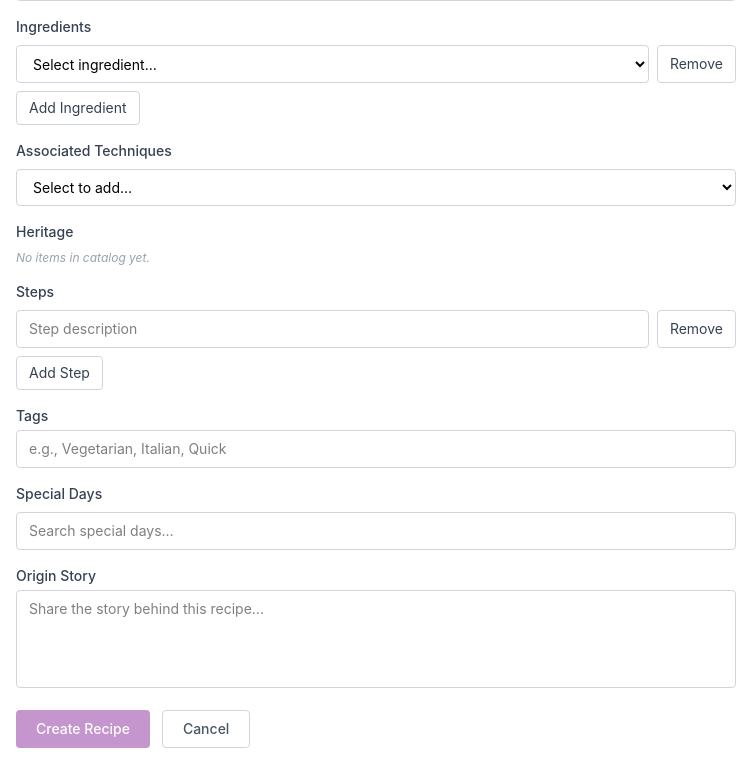
Test case: RecipeFormPage — create mode › removes a step input when "Remove" is clicked
This screenshot has width=753, height=757.
(page scrolled)
Click the button "Add Step" at (59, 373), box x1=16 y1=356 x2=103 y2=390
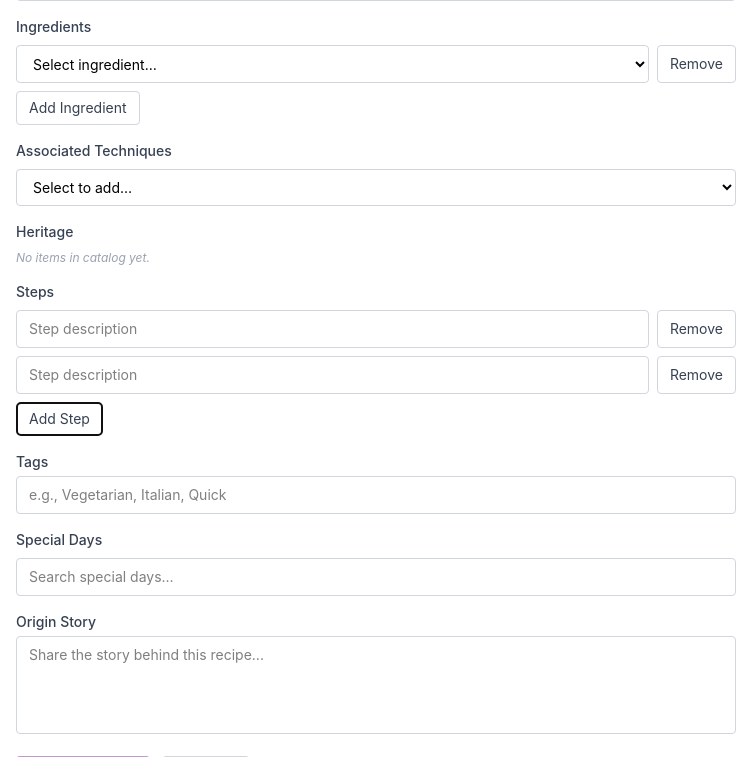
expect the number of fields with placeholder "Step description" is 2: met, box x1=16 y1=310 x2=649 y2=348; x1=16 y1=356 x2=649 y2=394
Click the 3rd button "Remove" at (696, 375), box x1=657 y1=356 x2=736 y2=394
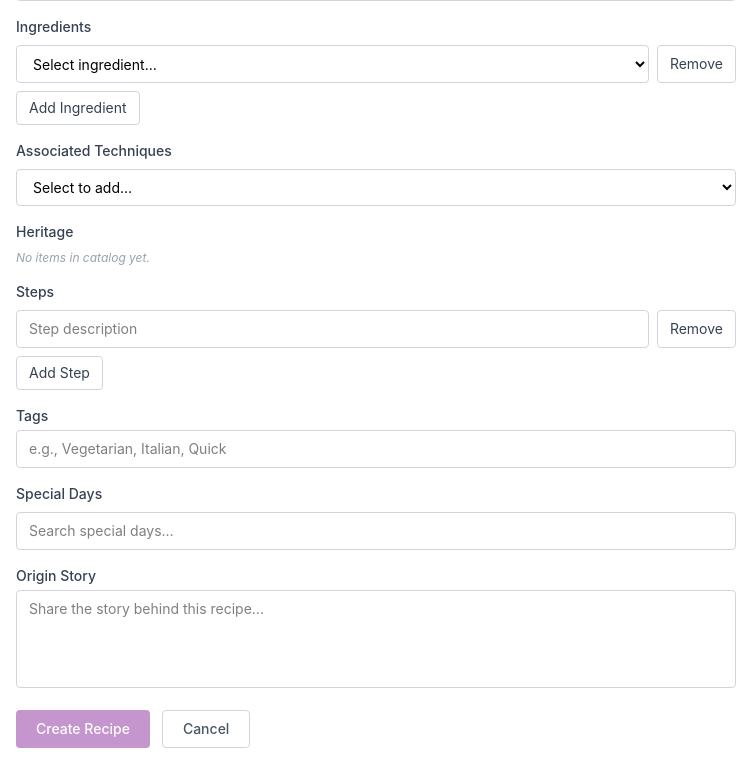
expect the number of fields with placeholder "Step description" is 1: met, box x1=16 y1=310 x2=649 y2=348
